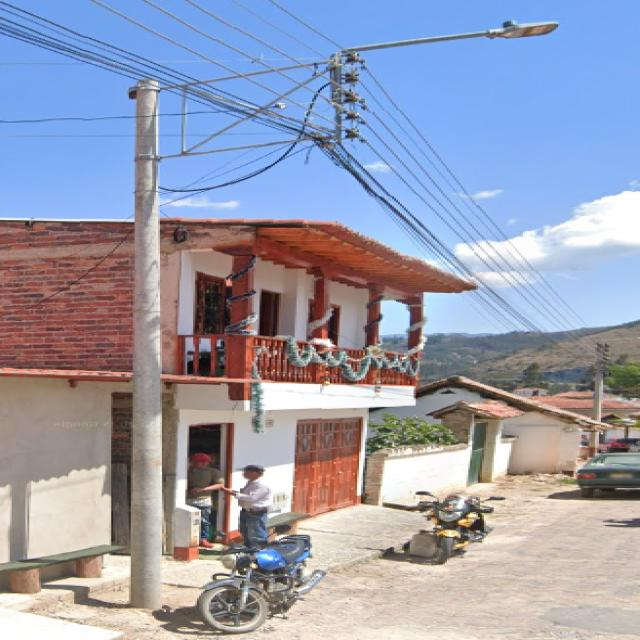Fachada: (162, 220, 470, 559), (2, 220, 133, 562), (365, 376, 601, 505)
Poste: (131, 21, 558, 609)
